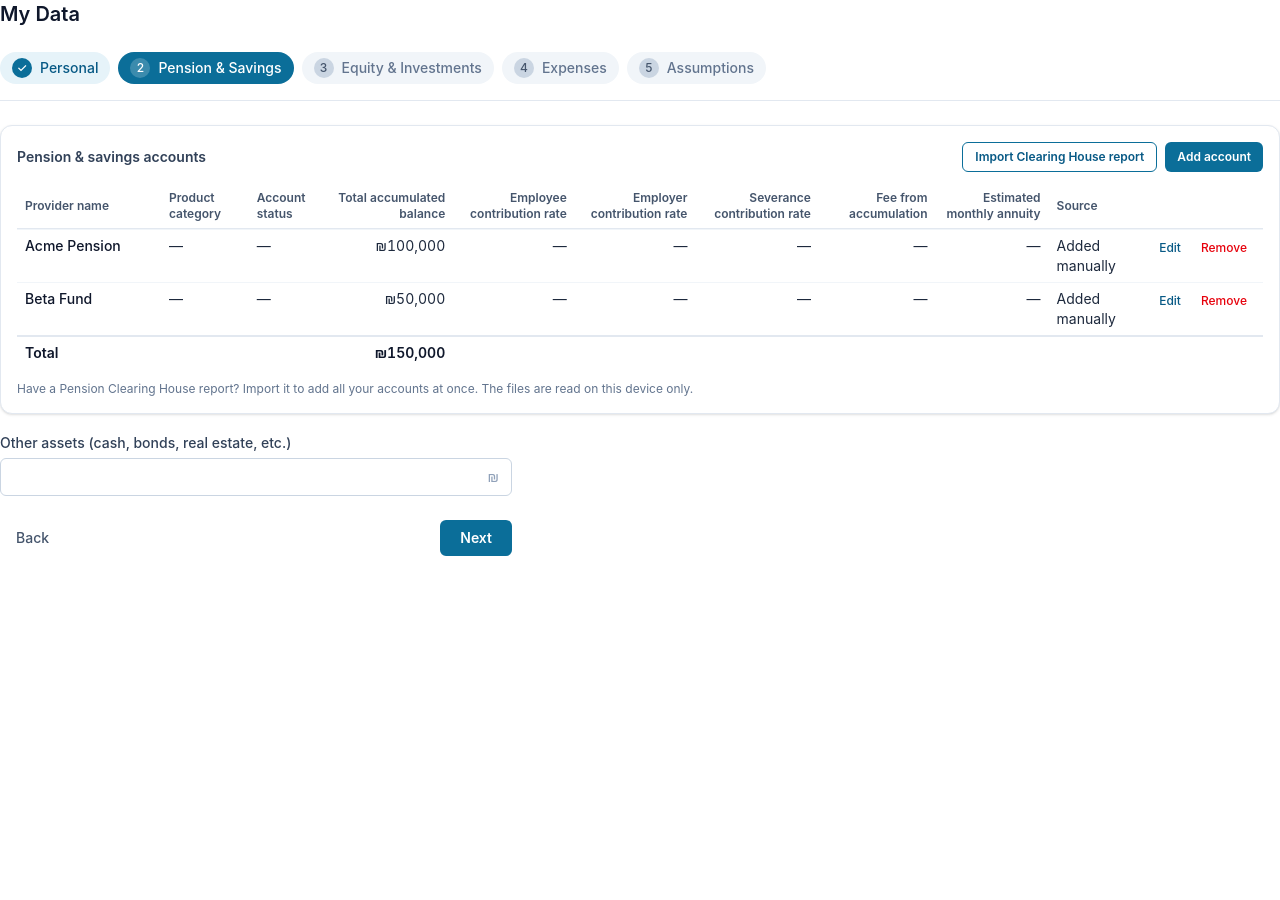
Scenario: My Data summary tables — Pension & Savings › edits and removes the account of the row whose button was pressed
The image size is (1280, 900).
Click the button "Edit" in the row of "Beta Fund": (1170, 301) left=1151, top=289, right=1189, bottom=313
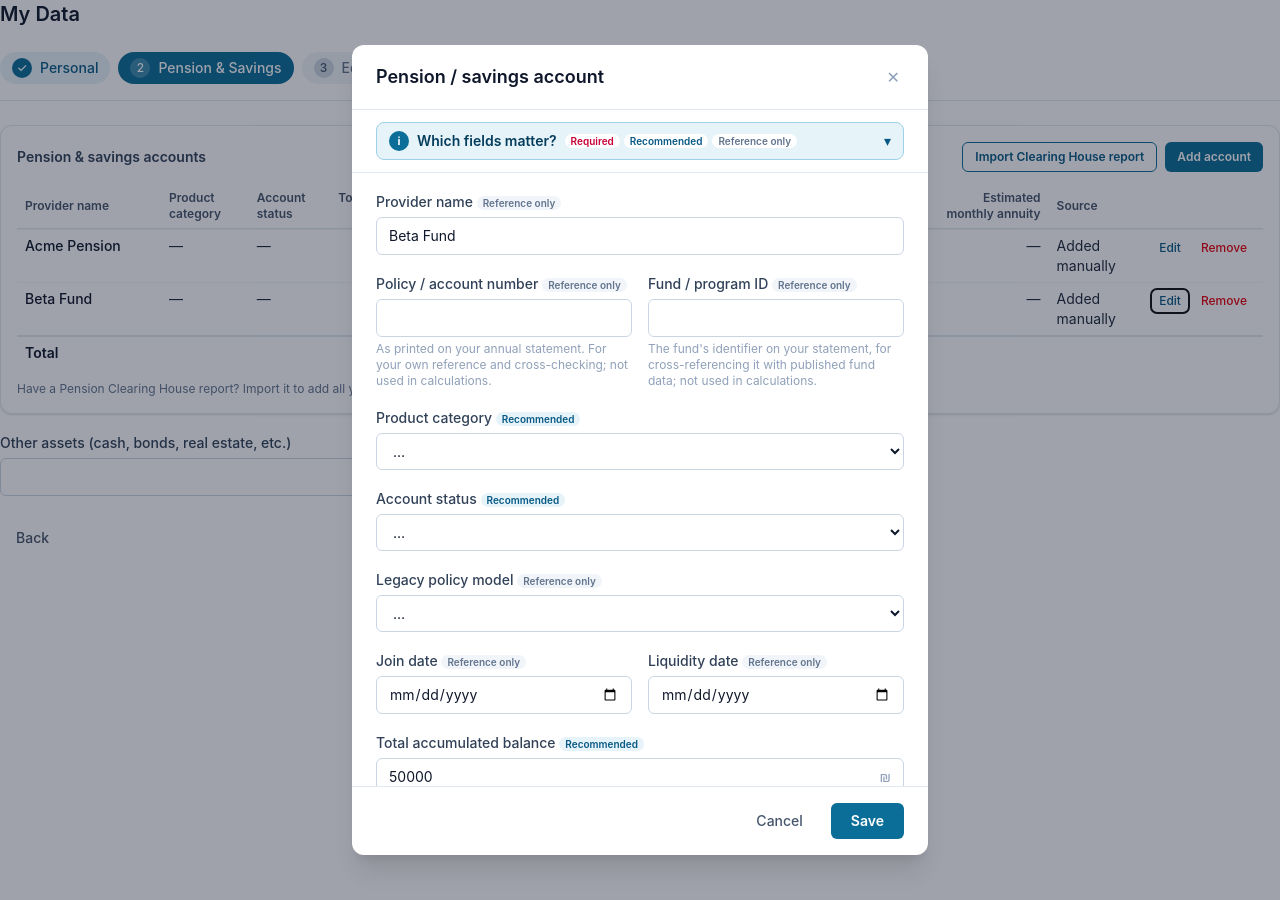
Expected: the field labelled "Provider name Reference only" holds "Beta Fund", left=376, top=217, right=904, bottom=255
Click the button "Cancel": (780, 821) left=740, top=803, right=819, bottom=839
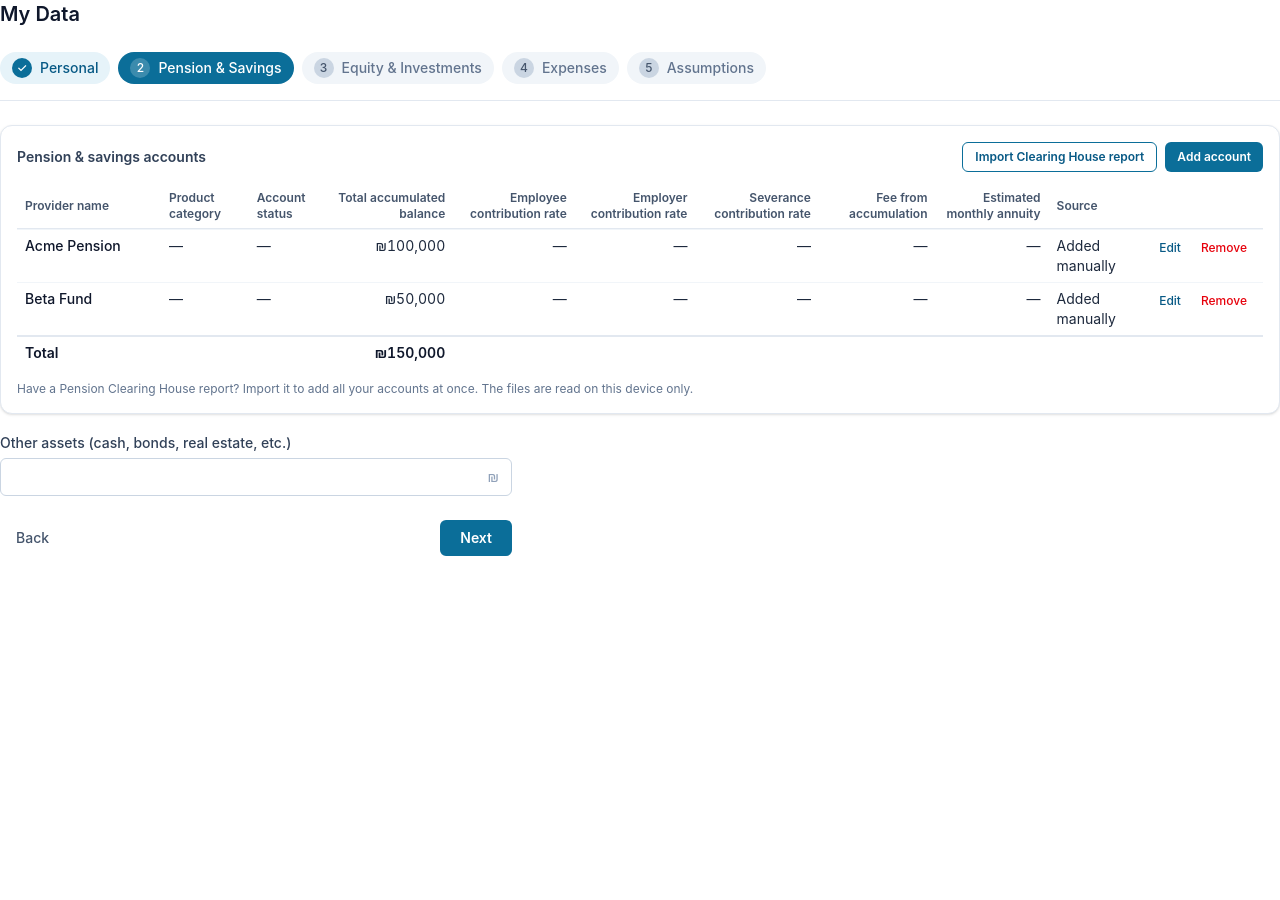
Click the button "Remove" in the row of "Acme Pension": (1224, 248) left=1193, top=236, right=1255, bottom=260
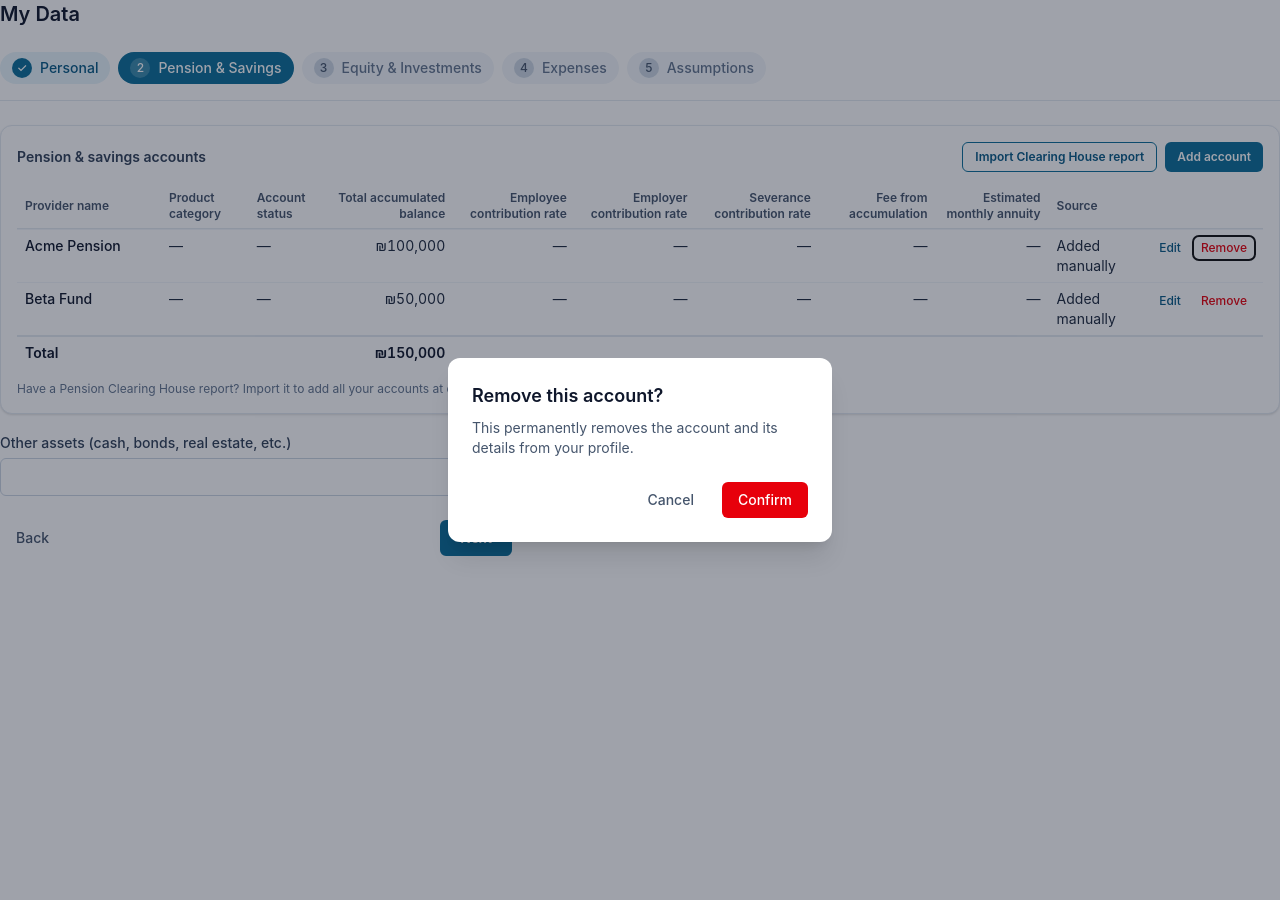
Click the button "Confirm": (765, 500) left=722, top=482, right=808, bottom=518
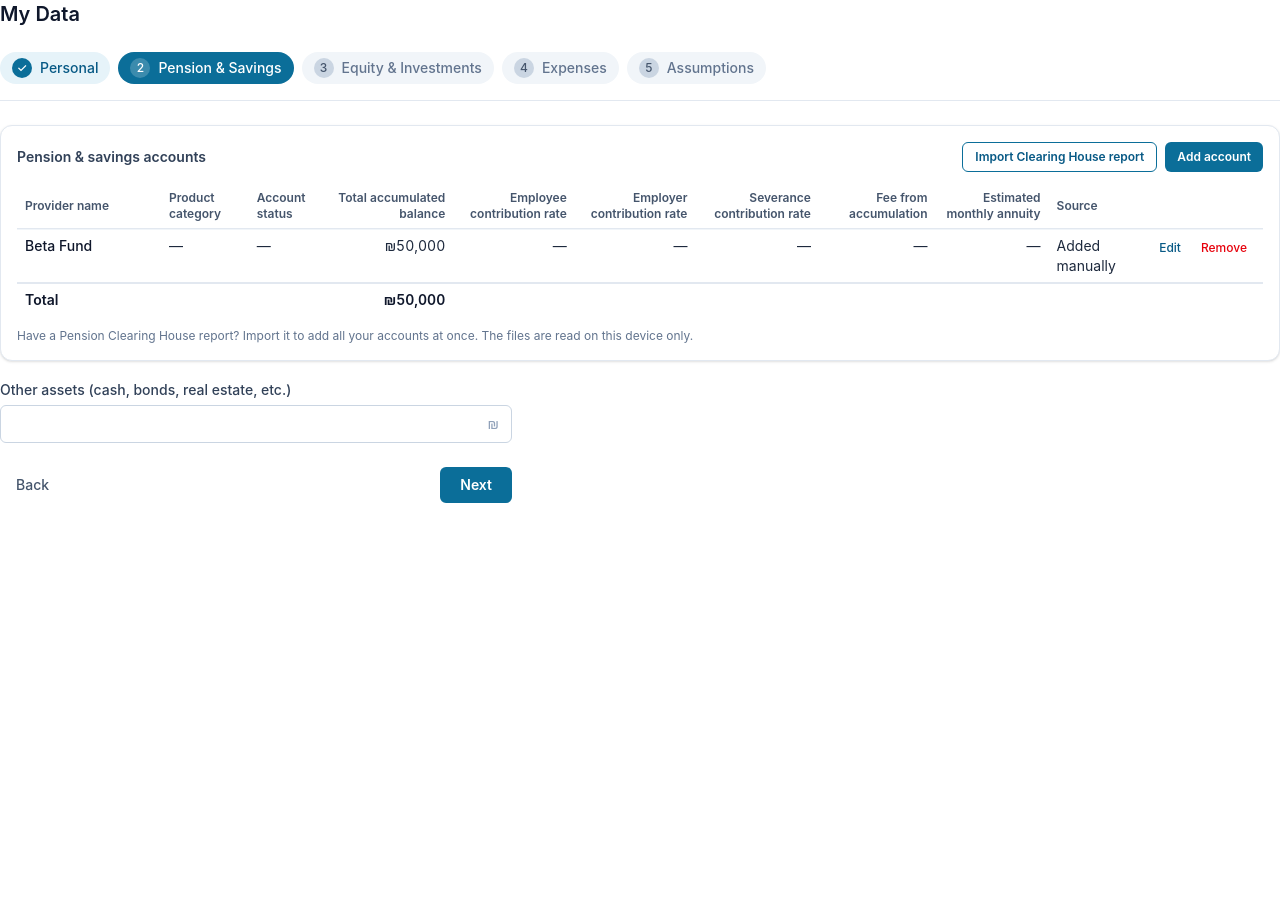
Expected: the text "Beta Fund" is shown, left=25, top=237, right=92, bottom=254
Expected: the text "Acme Pension" is gone
